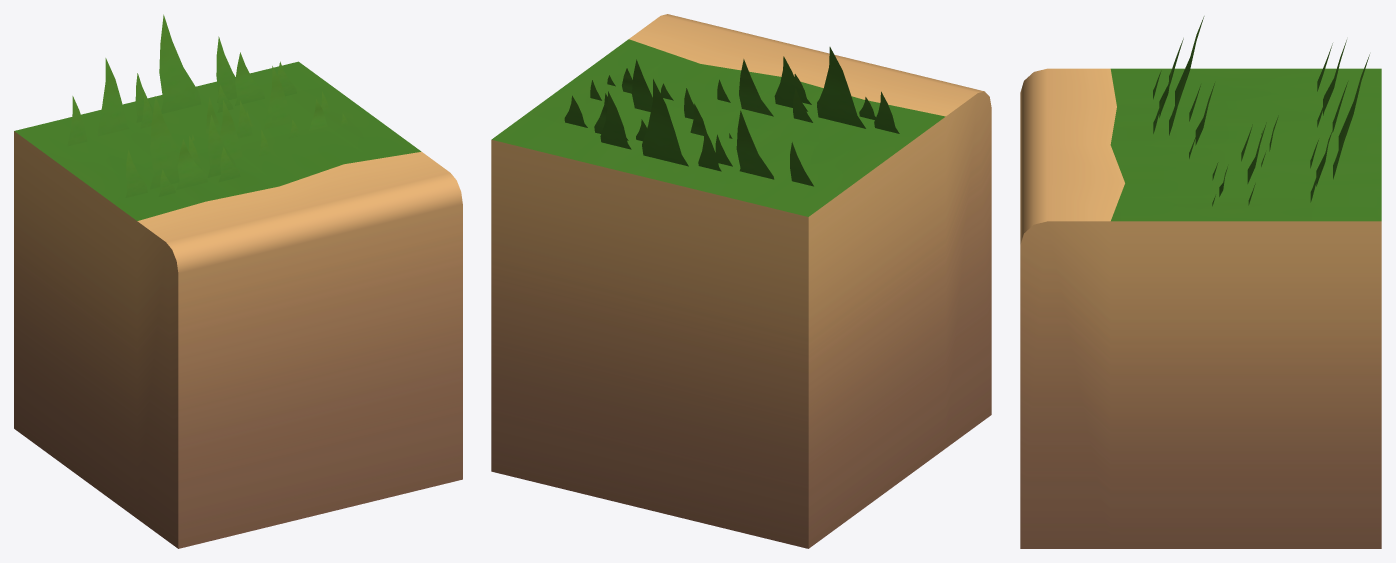
The model's file is down d tile.fbx.
3 renders of one model, left to right at view 1: azimuth 30°, elevation 25°; view 2: azimuth 150°, elevation 25°; view 3: azimuth 270°, elevation 25°, orthographic. The views are drawn at different scales.
Parts seen in each view (by area): view 1: d_d_tile, d_d_grass; view 2: d_d_tile, d_d_grass; view 3: d_d_tile, d_d_grass.
Boxes of the visible parts, bbox=[...] form: d_d_tile: bbox=[14, 61, 462, 548]; d_d_grass: bbox=[67, 14, 348, 197]; d_d_tile: bbox=[491, 14, 991, 548]; d_d_grass: bbox=[564, 47, 899, 186]; d_d_tile: bbox=[1020, 68, 1381, 548]; d_d_grass: bbox=[1153, 16, 1369, 206].
Size of the model in its own units: 10 by 12.87 by 10.
